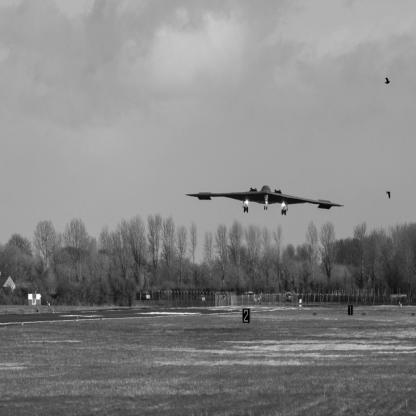B2: (185, 186, 346, 217)
